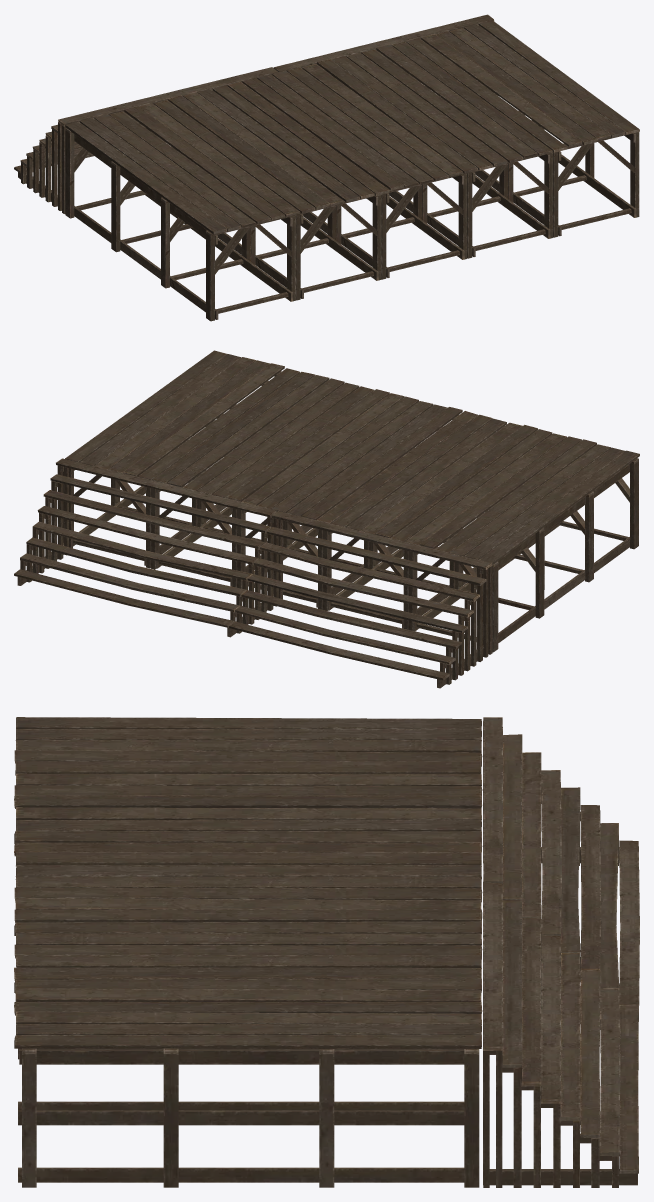
Rendered from FUR_Stage_Large_A-transformed.glb.
3 views of the same model, one above another, from view 1: azimuth 30°, elevation 25°; view 2: azimuth 150°, elevation 25°; view 3: azimuth 270°, elevation 25° (orthographic). The views are drawn at different scales.
Visible parts, largest first — view 1: default; view 2: default; view 3: default.
Part boxes in pixels (x1=…): default: x1=14, y1=14, x2=639, y2=321; default: x1=14, y1=350, x2=639, y2=688; default: x1=14, y1=717, x2=639, y2=1187.
Bounding box in the file's own units: 5.01 × 1.01 × 4.01.
1 material, 1 textured.
